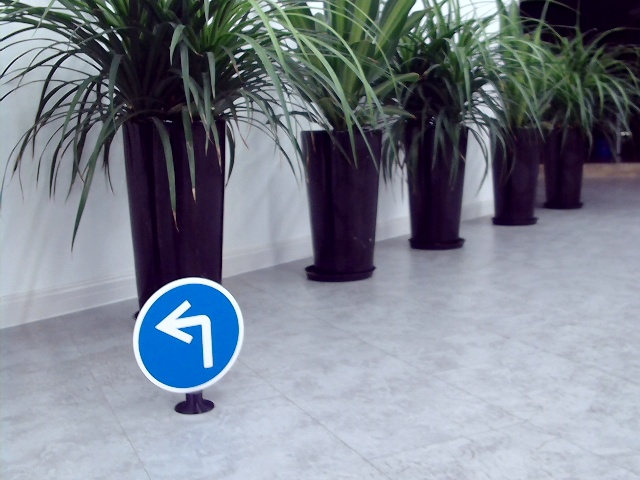turn_left: (154, 299, 220, 367)
